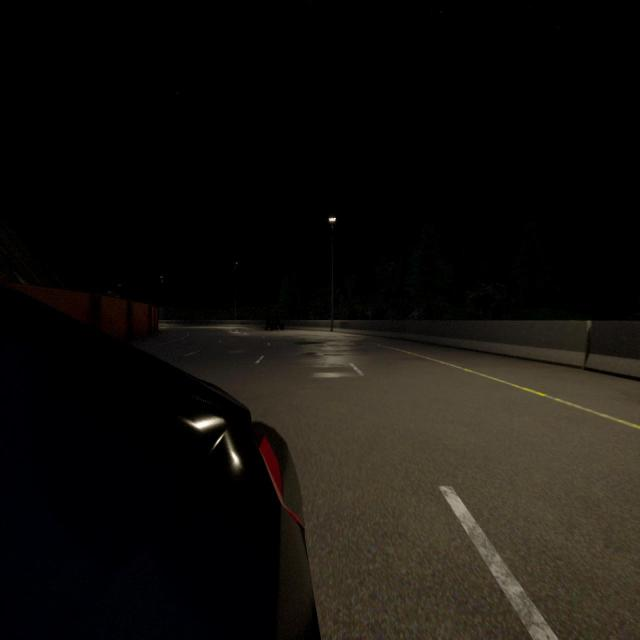Vehicle: (0, 286, 319, 640), (264, 316, 286, 331)
